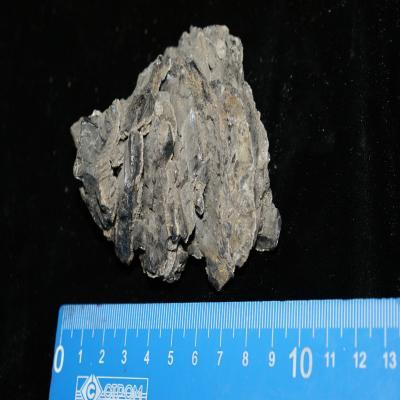mineralogy: (69, 25, 282, 294)
